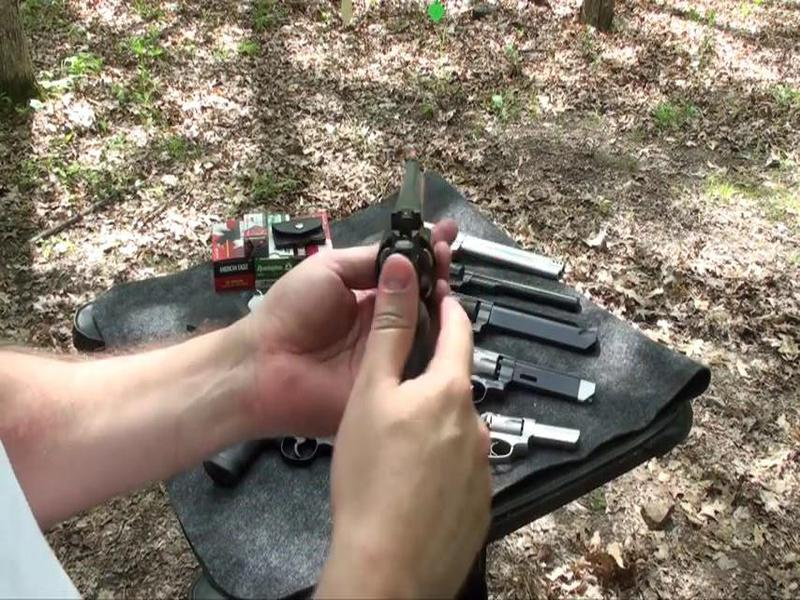Revolver: (374, 116, 462, 374)
